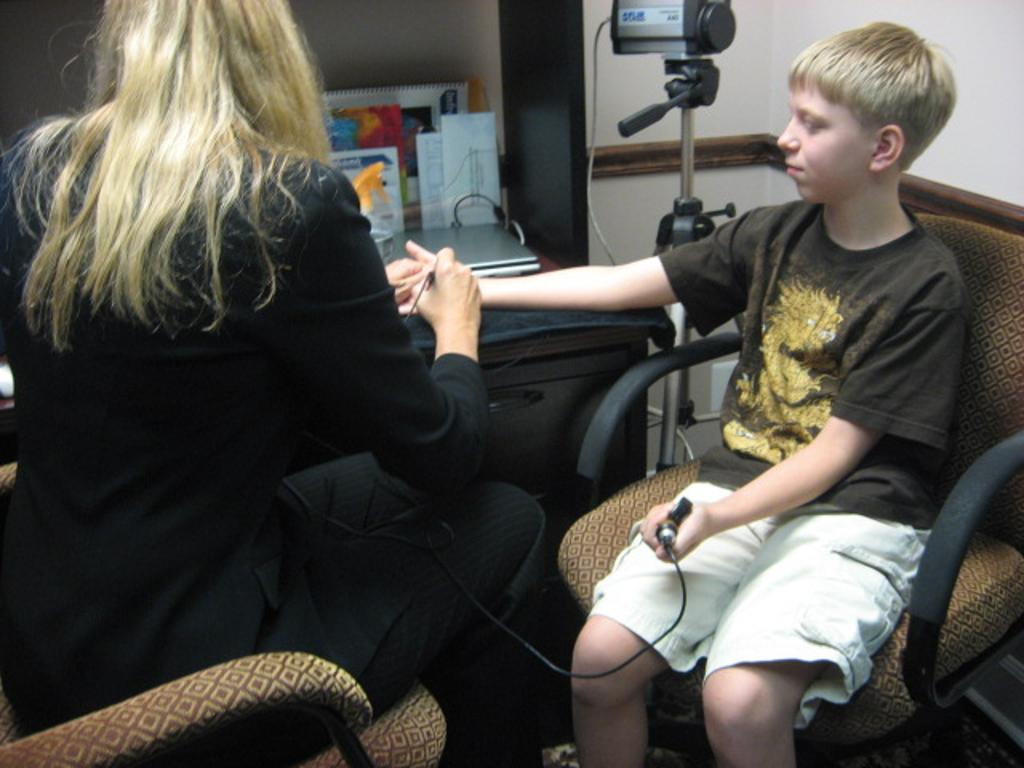face: (782, 58, 856, 208)
